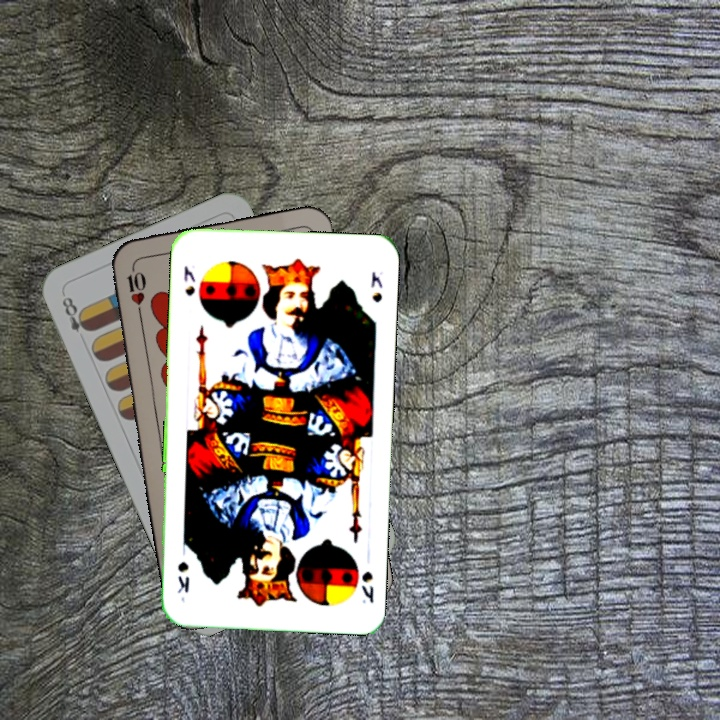E8: (57, 290, 93, 336)
H10: (123, 261, 148, 320)
SK: (358, 567, 377, 606), (180, 261, 198, 298)
